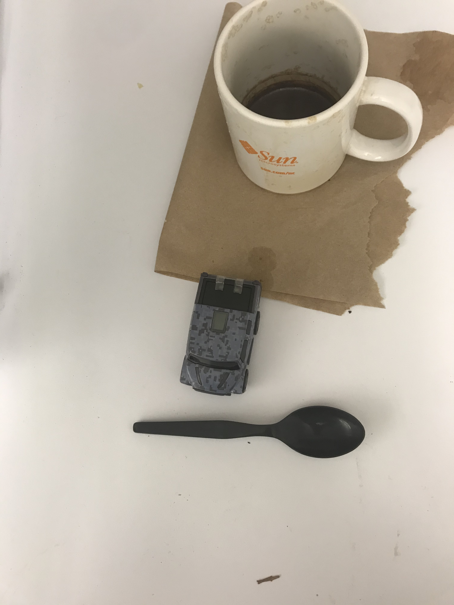MXT: (179, 270, 263, 396)
